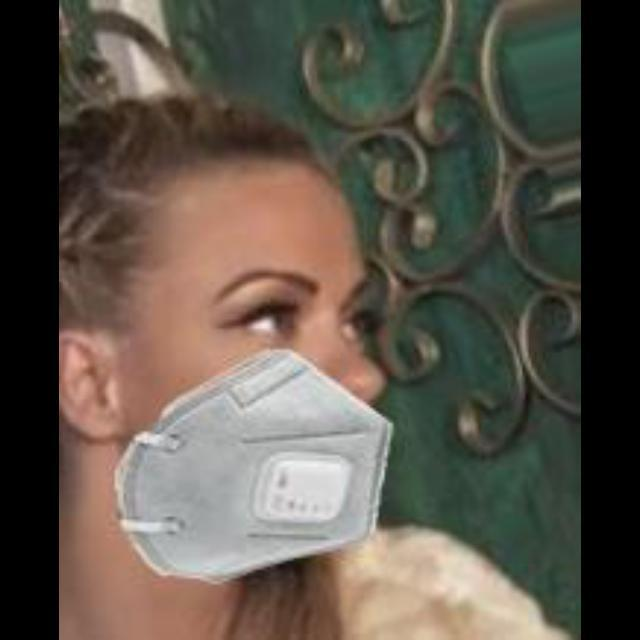suspicion: (122, 158, 392, 574)
